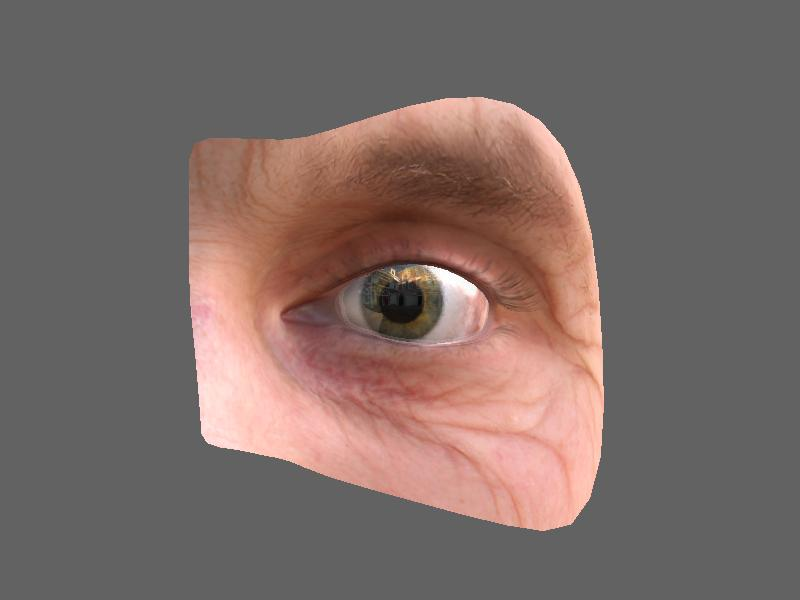iris: (357, 263, 445, 345)
